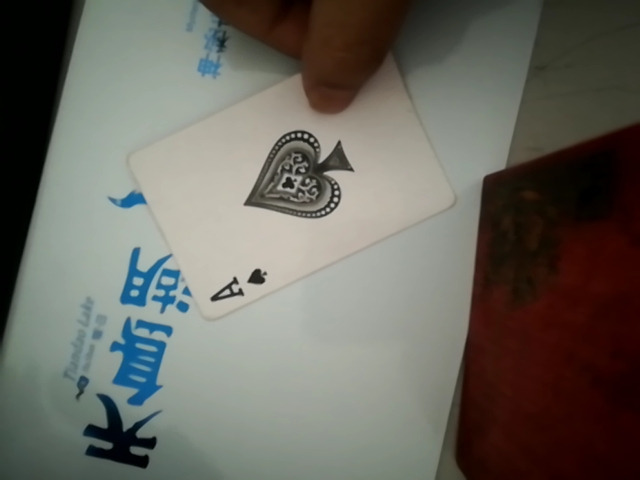ht a: (146, 45, 452, 322)
